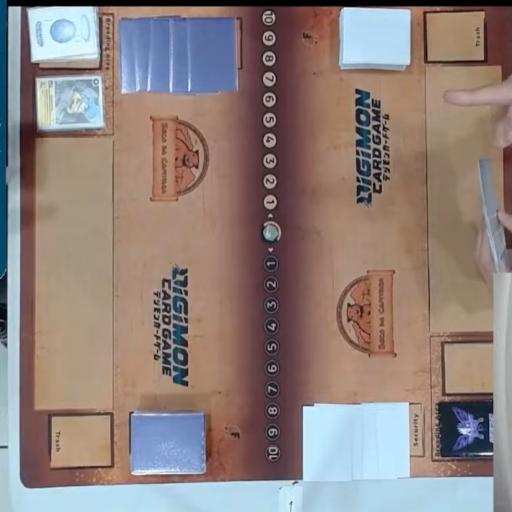card: (35, 75, 108, 134)
